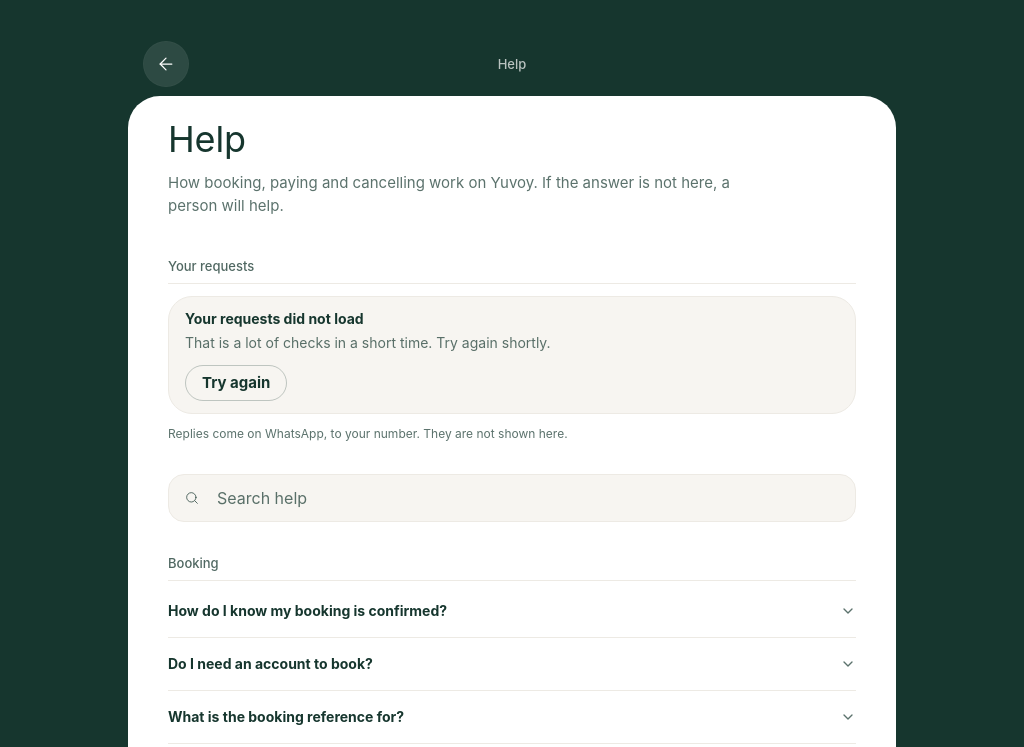
Test: your requests › asks for a moment after too many checks, and can try again
Expected: the text "That is a lot of checks in a short time. Try again shortly." is shown, [185,334,551,351]
Click the button "Try again": [236, 383] box [185,365,287,401]
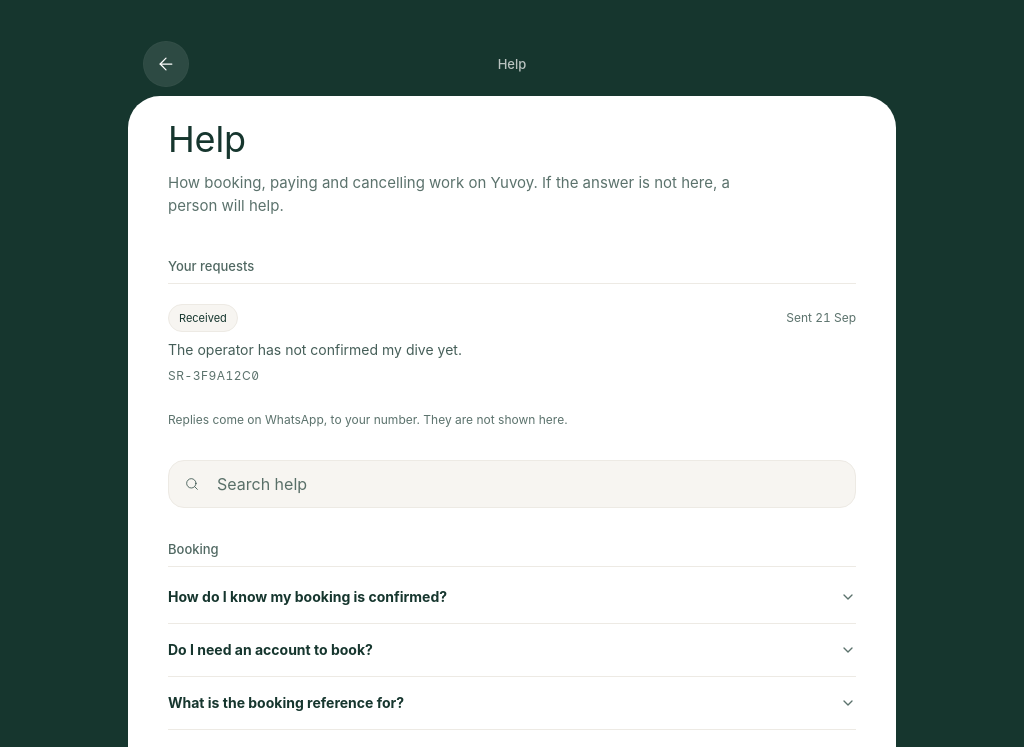
Expected: the text "Received" is shown, [168,304,238,332]
